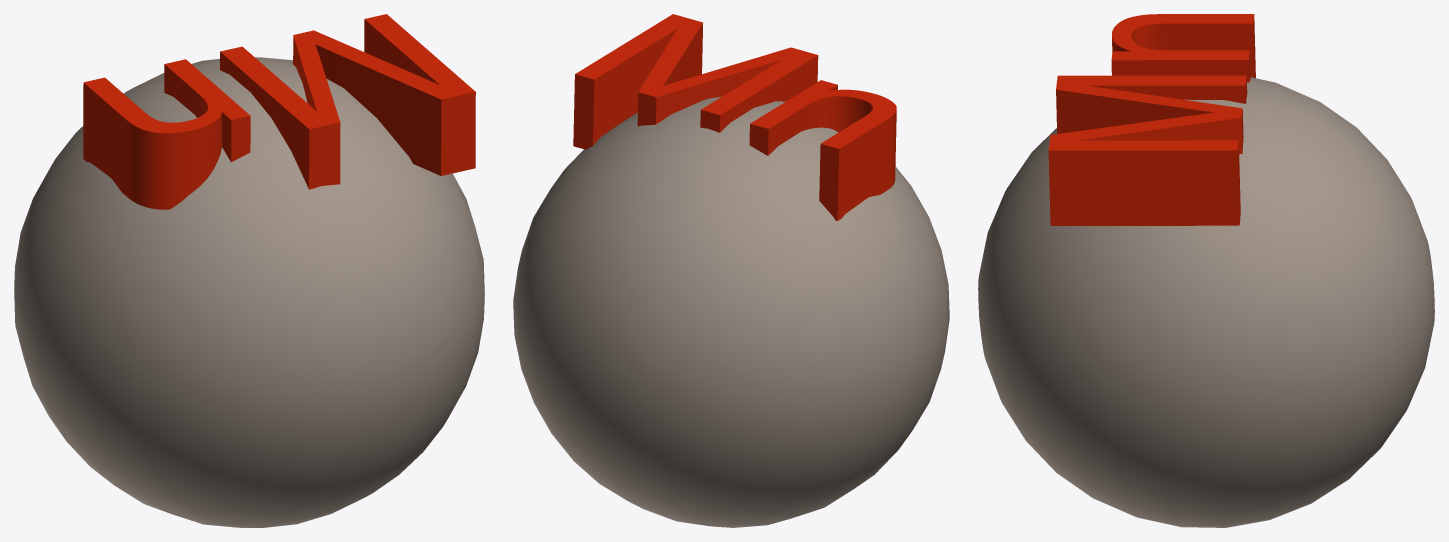
The picture shows the model from 3 angles, left to right: view 1: azimuth 30°, elevation 25°; view 2: azimuth 150°, elevation 25°; view 3: azimuth 270°, elevation 25°; orthographic projection. The views are drawn at different scales.
Visible parts, largest first — view 1: Mn; view 2: Mn; view 3: Mn.
Part boxes in pixels (<box>): Mn: <box>14,14,484,527</box>; Mn: <box>513,14,949,527</box>; Mn: <box>978,14,1434,527</box>.
Bounding box in the file's own units: 38.7 × 40.03 × 38.64.
